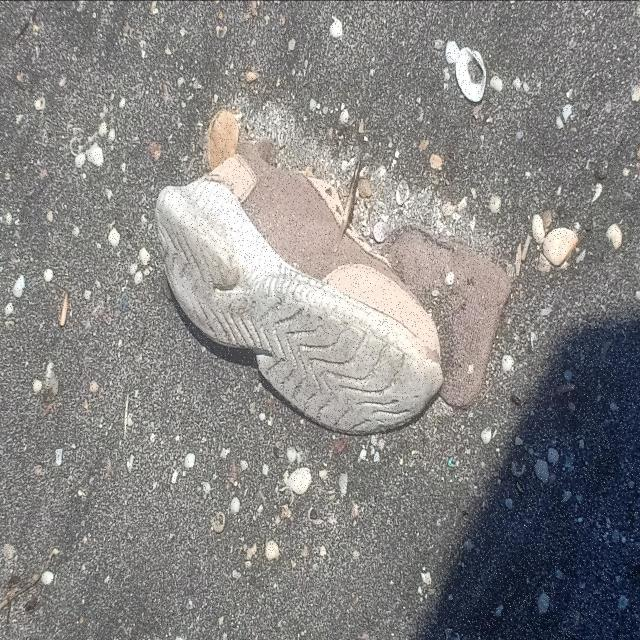rubber_waste: (153, 136, 446, 438)
